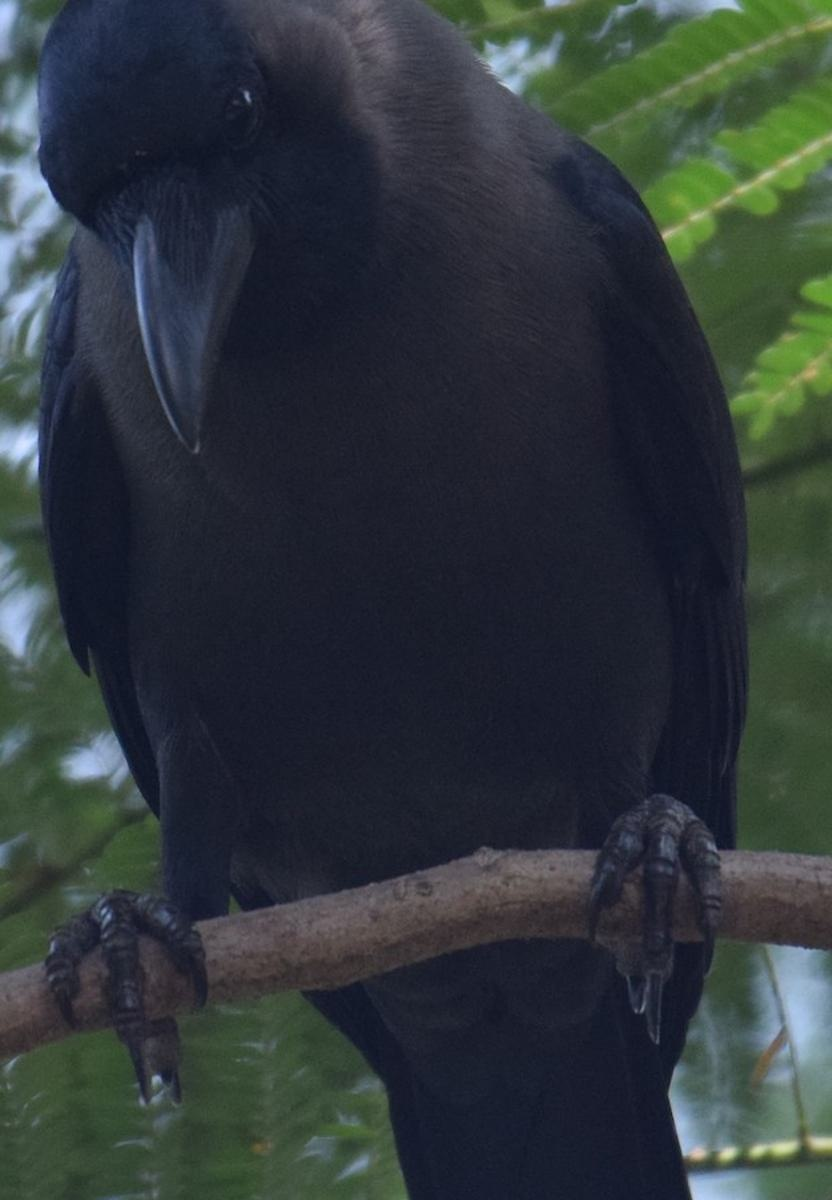crow: (6, 4, 753, 1200)
